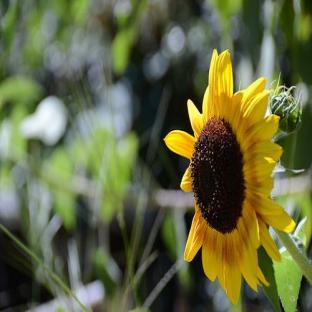sunflower: (163, 51, 312, 305)
